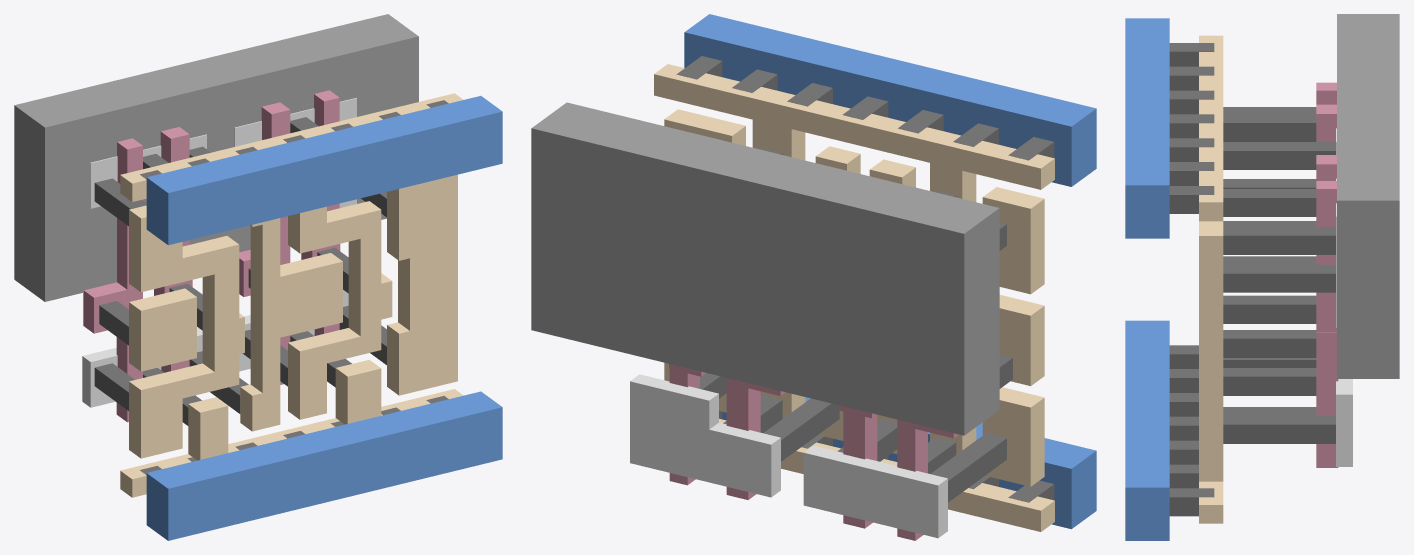
File: sky130_fd_sc_hd__dlygate4sd2_1.gds.gltf
3 views of the same model, side by side, from view 1: azimuth 30°, elevation 25°; view 2: azimuth 150°, elevation 25°; view 3: azimuth 270°, elevation 25° (orthographic). The views are drawn at different scales.
Visible parts, largest first — view 1: sky130_fd_sc_hd__dlygate4sd2_1_li1, sky130_fd_sc_hd__dlygate4sd2_1_met1, sky130_fd_sc_hd__dlygate4sd2_1_nwell, sky130_fd_sc_hd__dlygate4sd2_1_poly, sky130_fd_sc_hd__dlygate4sd2_1_licon, sky130_fd_sc_hd__dlygate4sd2_1_diff, sky130_fd_sc_hd__dlygate4sd2_1_mcon; view 2: sky130_fd_sc_hd__dlygate4sd2_1_nwell, sky130_fd_sc_hd__dlygate4sd2_1_li1, sky130_fd_sc_hd__dlygate4sd2_1_met1, sky130_fd_sc_hd__dlygate4sd2_1_diff, sky130_fd_sc_hd__dlygate4sd2_1_licon, sky130_fd_sc_hd__dlygate4sd2_1_poly, sky130_fd_sc_hd__dlygate4sd2_1_mcon; view 3: sky130_fd_sc_hd__dlygate4sd2_1_licon, sky130_fd_sc_hd__dlygate4sd2_1_nwell, sky130_fd_sc_hd__dlygate4sd2_1_met1, sky130_fd_sc_hd__dlygate4sd2_1_mcon, sky130_fd_sc_hd__dlygate4sd2_1_li1, sky130_fd_sc_hd__dlygate4sd2_1_poly, sky130_fd_sc_hd__dlygate4sd2_1_diff.
Boxes of the visible parts, box(x1,y1,x2,y2) form: sky130_fd_sc_hd__dlygate4sd2_1_li1: box(120, 93, 463, 497); sky130_fd_sc_hd__dlygate4sd2_1_met1: box(146, 96, 502, 540); sky130_fd_sc_hd__dlygate4sd2_1_nwell: box(14, 14, 418, 301); sky130_fd_sc_hd__dlygate4sd2_1_poly: box(83, 90, 340, 422); sky130_fd_sc_hd__dlygate4sd2_1_licon: box(94, 117, 386, 425); sky130_fd_sc_hd__dlygate4sd2_1_diff: box(82, 98, 356, 407); sky130_fd_sc_hd__dlygate4sd2_1_mcon: box(140, 100, 448, 474); sky130_fd_sc_hd__dlygate4sd2_1_nwell: box(531, 102, 999, 435); sky130_fd_sc_hd__dlygate4sd2_1_li1: box(654, 64, 1054, 531); sky130_fd_sc_hd__dlygate4sd2_1_met1: box(684, 14, 1096, 529); sky130_fd_sc_hd__dlygate4sd2_1_diff: box(630, 374, 947, 538); sky130_fd_sc_hd__dlygate4sd2_1_licon: box(700, 148, 1012, 502); sky130_fd_sc_hd__dlygate4sd2_1_poly: box(669, 364, 958, 540); sky130_fd_sc_hd__dlygate4sd2_1_mcon: box(676, 56, 1054, 502); sky130_fd_sc_hd__dlygate4sd2_1_licon: box(1223, 107, 1335, 443); sky130_fd_sc_hd__dlygate4sd2_1_nwell: box(1337, 14, 1399, 378); sky130_fd_sc_hd__dlygate4sd2_1_met1: box(1125, 18, 1169, 540); sky130_fd_sc_hd__dlygate4sd2_1_mcon: box(1169, 43, 1214, 516); sky130_fd_sc_hd__dlygate4sd2_1_li1: box(1199, 35, 1223, 523); sky130_fd_sc_hd__dlygate4sd2_1_poly: box(1316, 82, 1338, 467); sky130_fd_sc_hd__dlygate4sd2_1_diff: box(1336, 128, 1352, 466).
Bounding box in the file's own units: 3.6 × 3.2 × 2.24.
